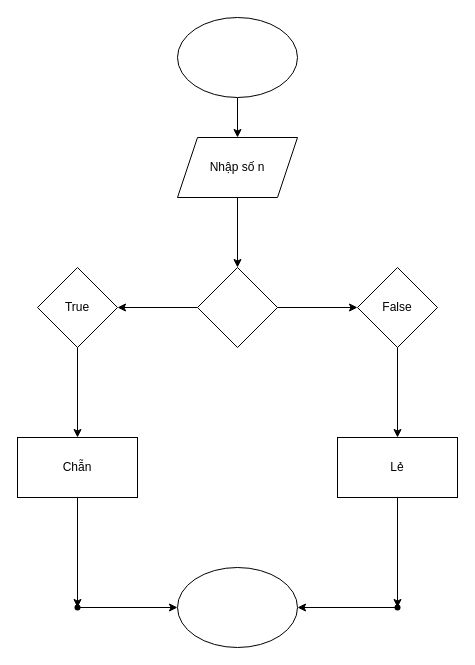
The diagram is 475 pixels wide and 665 high, and some of its shapes have lost their labels. The centre of each missing label's shape, as x and y in pixels:
END: pixel 237 607
n%2=0: pixel 237 307
START: pixel 237 57
